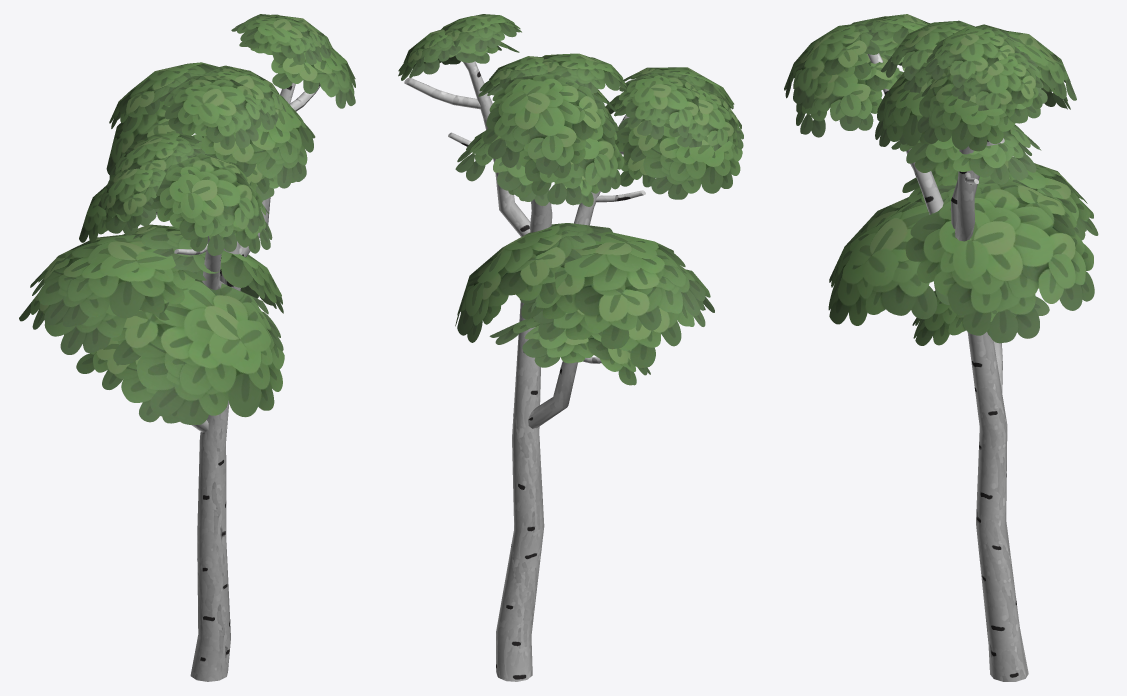
Rendered from birch_4.glb.
3 views of the same model, side by side, from view 1: azimuth 30°, elevation 25°; view 2: azimuth 150°, elevation 25°; view 3: azimuth 270°, elevation 25° (orthographic). The views are drawn at different scales.
Parts seen in each view (by area): view 1: Birch_4; view 2: Birch_4; view 3: Birch_4.
Boxes of the visible parts, <box> form: Birch_4: <box>19,14,355,681</box>; Birch_4: <box>398,14,743,681</box>; Birch_4: <box>784,14,1098,681</box>.
Bounding box in the file's own units: 5.17 × 9.99 × 4.5.
Materials: 2 (2 with a texture image).
